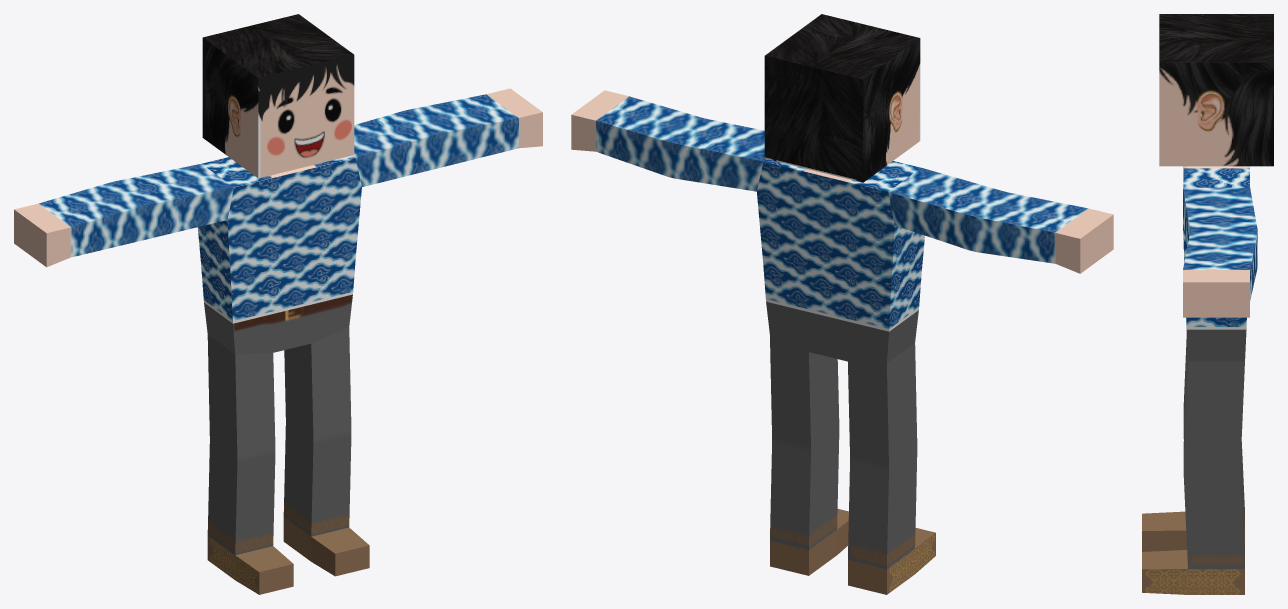
The model's file is TUGAS 3 KARAKTER MARTSEAM 4.fbx.
3 renders of one model, left to right at view 1: azimuth 30°, elevation 25°; view 2: azimuth 150°, elevation 25°; view 3: azimuth 270°, elevation 25°, orthographic. The views are drawn at different scales.
Parts seen in each view (by area): view 1: Cube.001; view 2: Cube.001; view 3: Cube.001.
Boxes of the visible parts, x1,y1,x2,y2 form: Cube.001: [14, 14, 542, 594]; Cube.001: [571, 14, 1113, 594]; Cube.001: [1142, 14, 1273, 594].
Bounding box in the file's own units: 361 × 354 × 80.14.
1 material, 1 textured.
